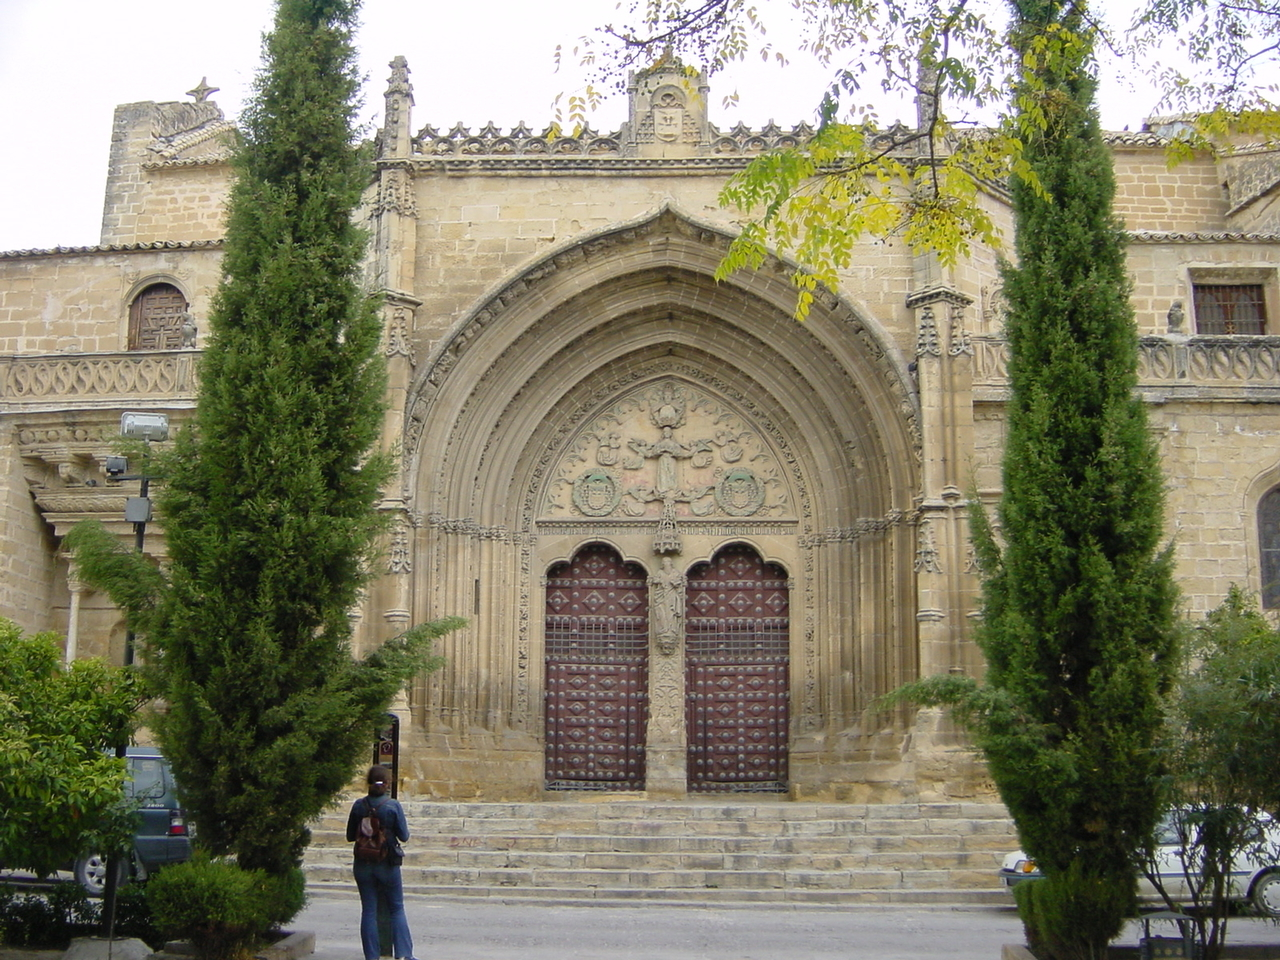arco-apuntado: (470, 258, 843, 513)
arco-conopial: (553, 194, 764, 261)
arco-trilobulado: (535, 531, 658, 594), (676, 530, 795, 591)
